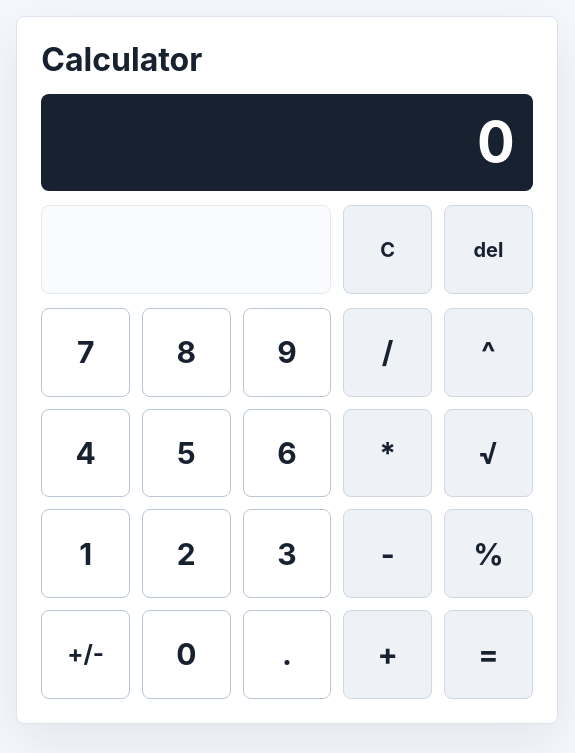
it: Calculator › shows API error response
This screenshot has width=575, height=753.
Click the button "7". click: point(86, 352)
box: [41,308,130,397]
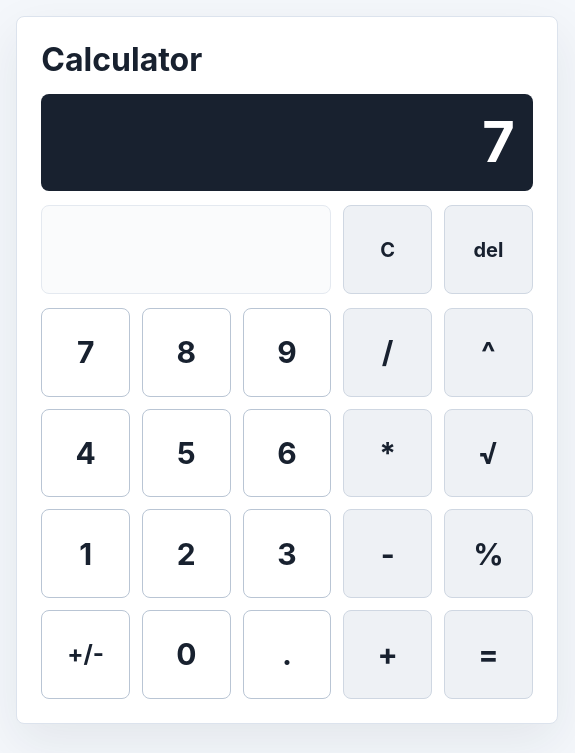
Click the button "+". click: point(388, 654)
box: [343,610,432,699]
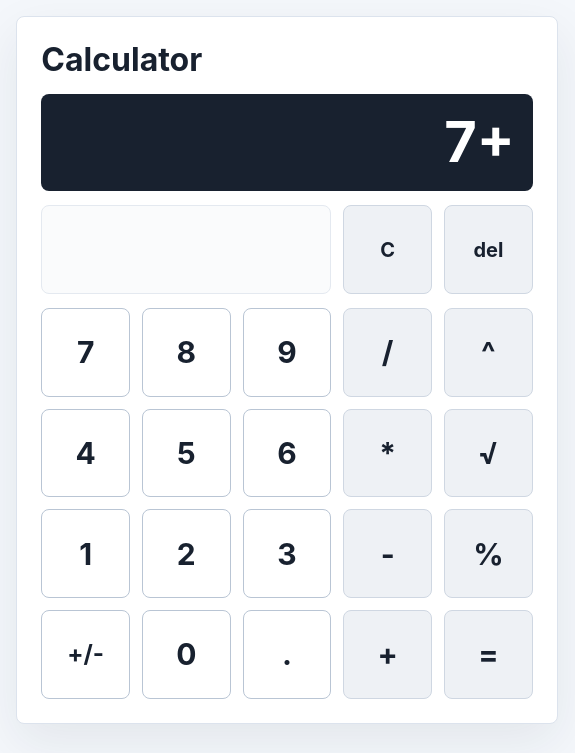
Click the button "8". click: point(186, 352)
box: [142,308,231,397]
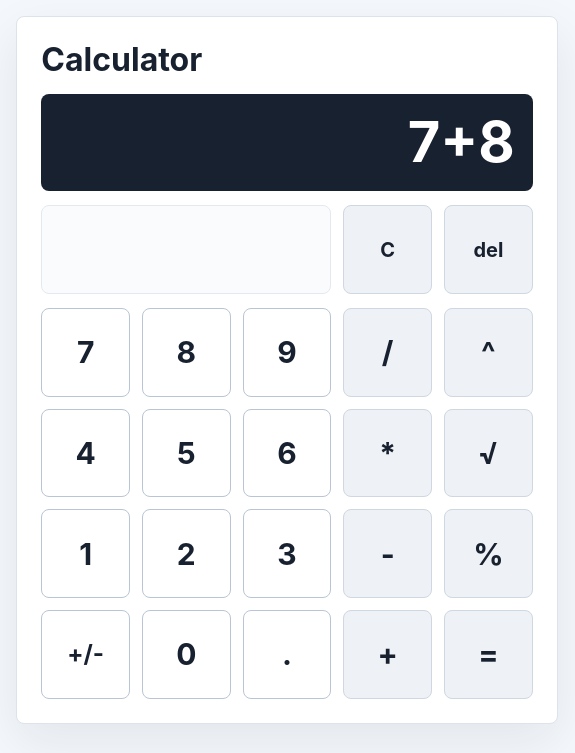
Click the button "=". click: point(488, 654)
box: [444,610,533,699]
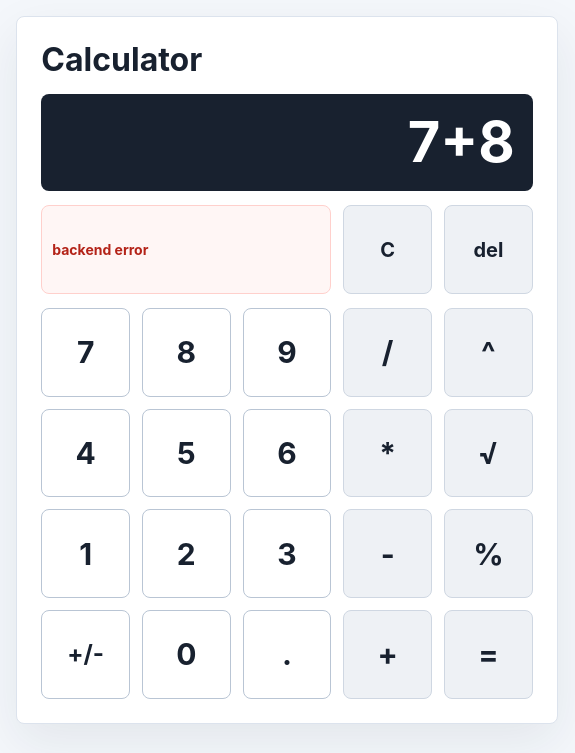
Result: the message "backend error" is shown at [41,205,331,294]
